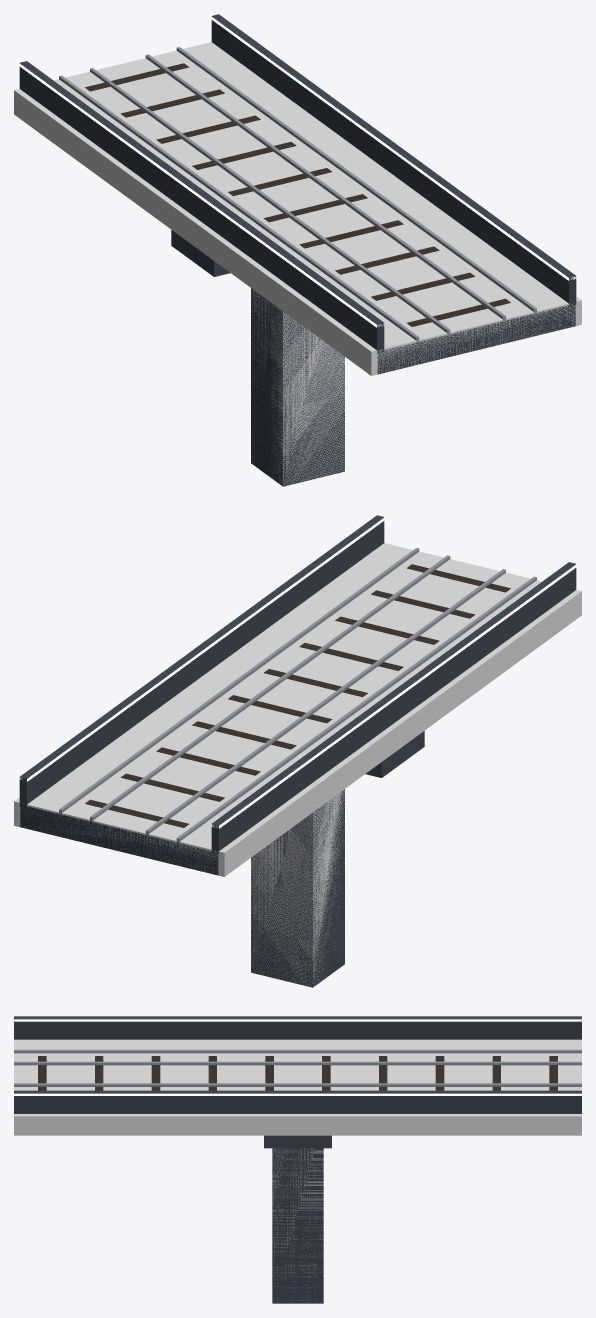
The model's file is via_elevada.glb.
3 renders of one model, top to bottom at view 1: azimuth 30°, elevation 25°; view 2: azimuth 150°, elevation 25°; view 3: azimuth 270°, elevation 25°, orthographic. The views are drawn at different scales.
Visible parts, largest first — view 1: via_elevada_Malla, COL_1, COL_0; view 2: via_elevada_Malla, COL_1, COL_0; view 3: via_elevada_Malla, COL_1, COL_0.
Boxes of the visible parts, <box> form: via_elevada_Malla: <box>19,14,576,486</box>; COL_1: <box>14,42,581,375</box>; COL_0: <box>251,290,344,485</box>; via_elevada_Malla: <box>19,515,576,987</box>; COL_1: <box>14,543,581,876</box>; COL_0: <box>251,790,344,987</box>; via_elevada_Malla: <box>14,1016,581,1303</box>; COL_1: <box>14,1039,581,1135</box>; COL_0: <box>272,1148,323,1300</box>.
Bounding box in the file's own units: 6.8 × 9.2 × 20.
